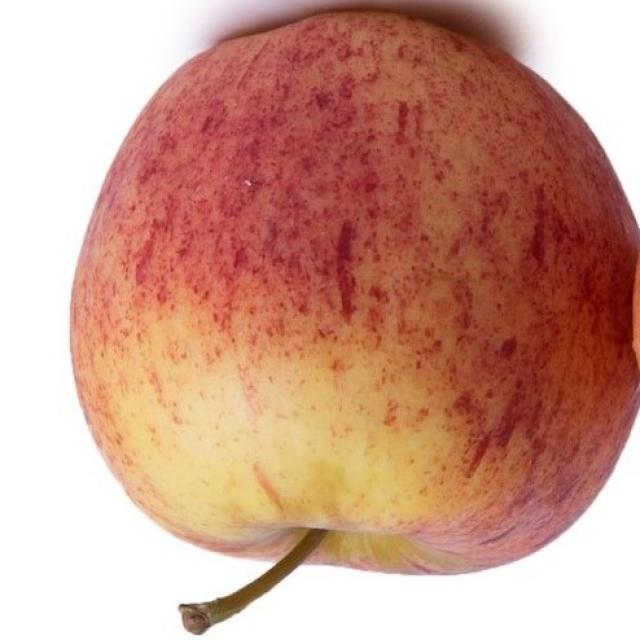75-_ripeness: (69, 16, 640, 571)
